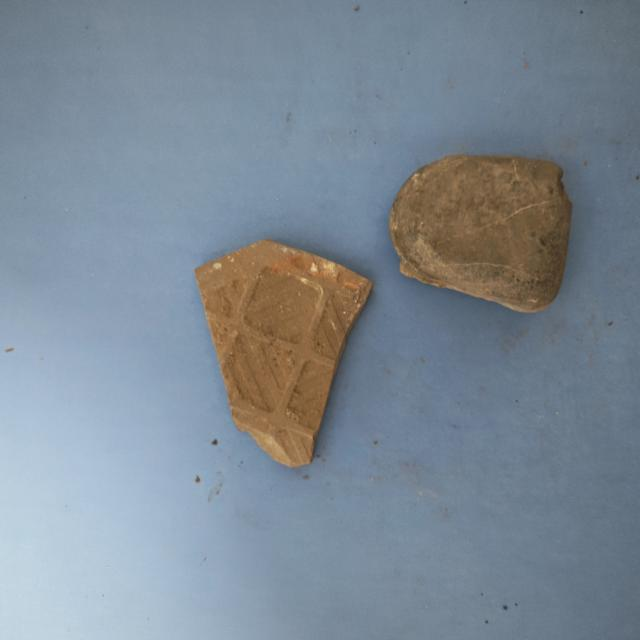-Other waste - ceramic-: (193, 236, 369, 470)
-Other waste - pebble-: (392, 152, 571, 312)
